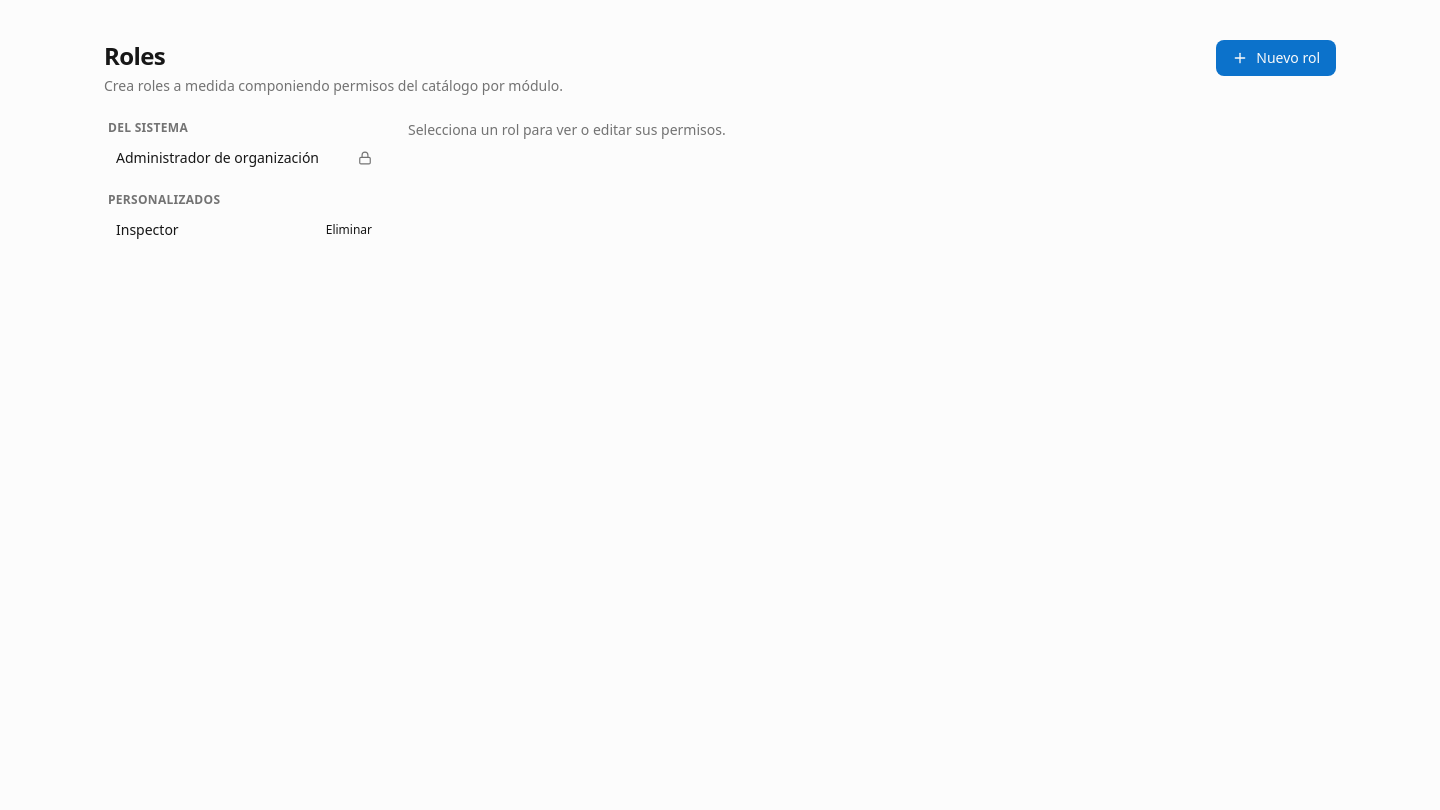
Test case: RolesPage › botón Nuevo rol abre el diálogo de creación
Click the button "Nuevo rol": (1276, 58) [1216,40,1336,76]
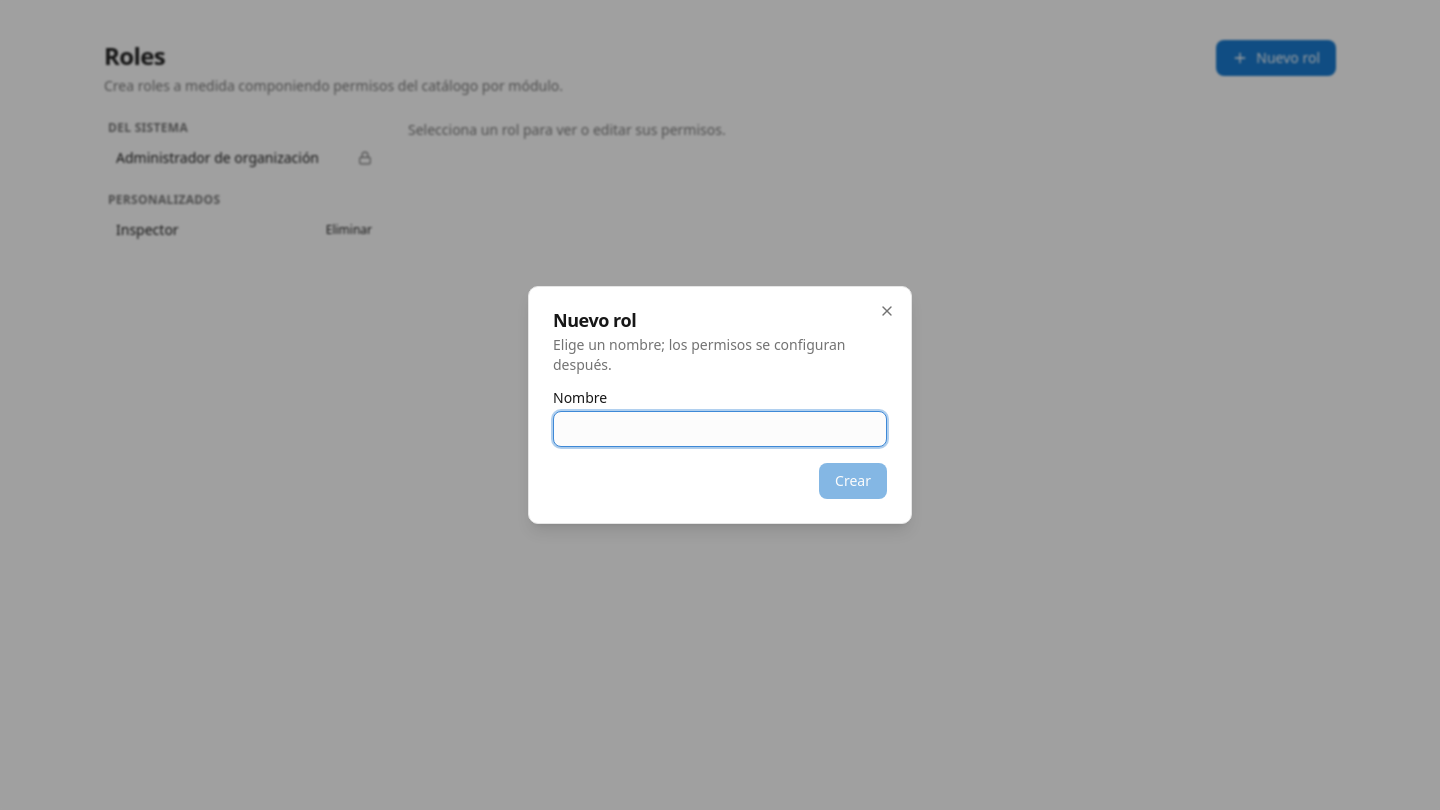
expect the dialog is shown: met, box [528,286,912,524]
